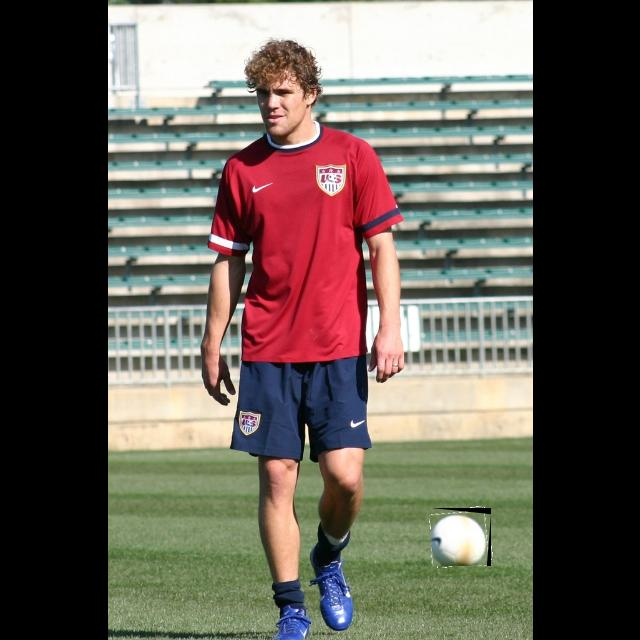Football: (431, 508, 491, 566)
